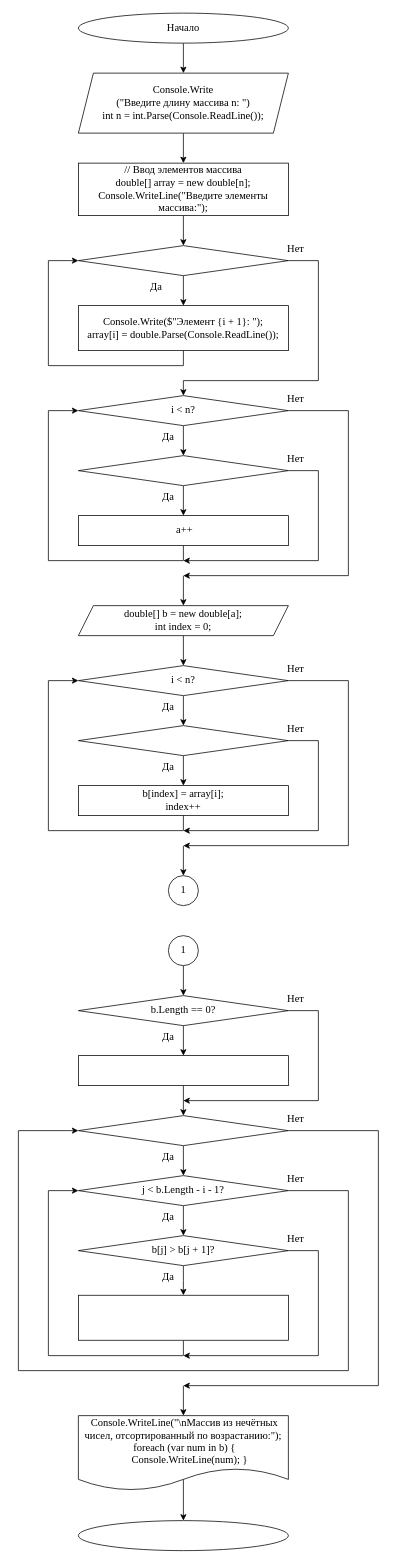
The diagram is 398 pixels wide and 1564 high, and some of its shapes have lost their labels. Here are the shapes that lost their labels. From the top down, the centre of each, then its label:
[183,260]: i < 0?
[183,470]: array[i] % 2 != 0?
[183,740]: array[i] % 2 != 0
[183,1070]: Console.WriteLine("\nВ массиве нет нечётных чисел.")
[183,1130]: i < b.Length - 1?
[183,1317]: double temp = b[j]; b[j] = b[j + 1]; b[j + 1] = temp;
[183,1535]: Вывод
